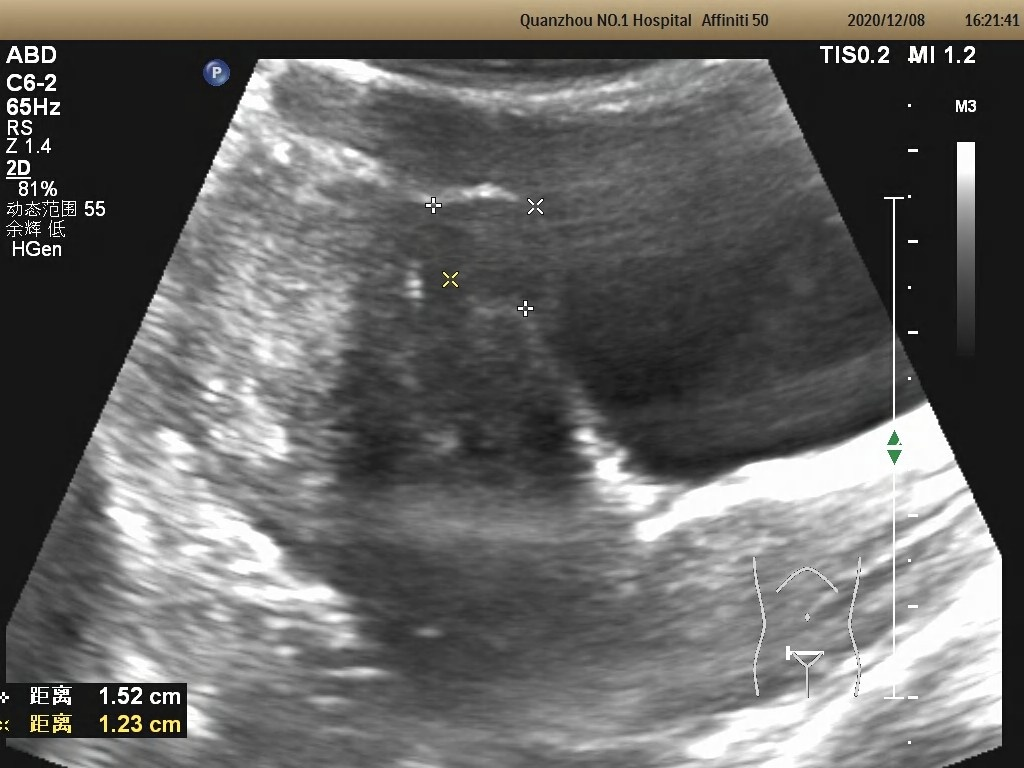肌瘤: (430, 205, 537, 309)
